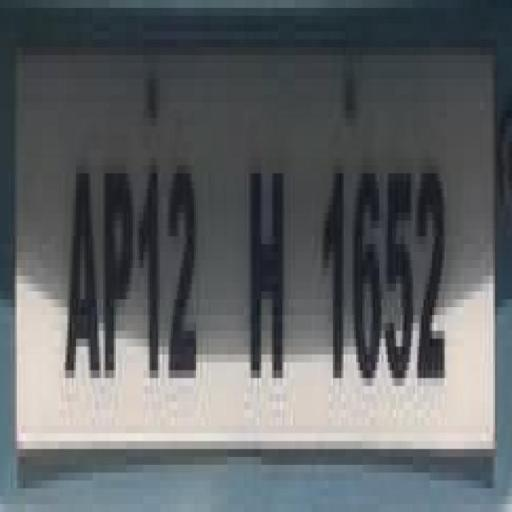number plate: (0, 39, 485, 449)
